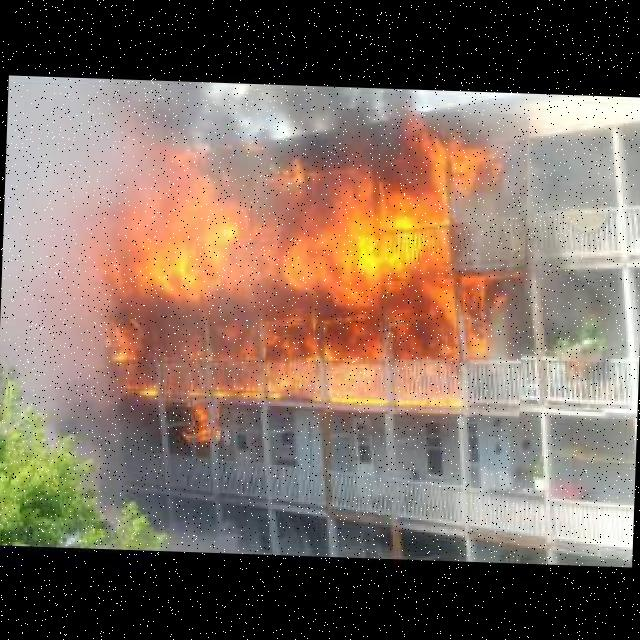fire: (29, 97, 529, 418)
